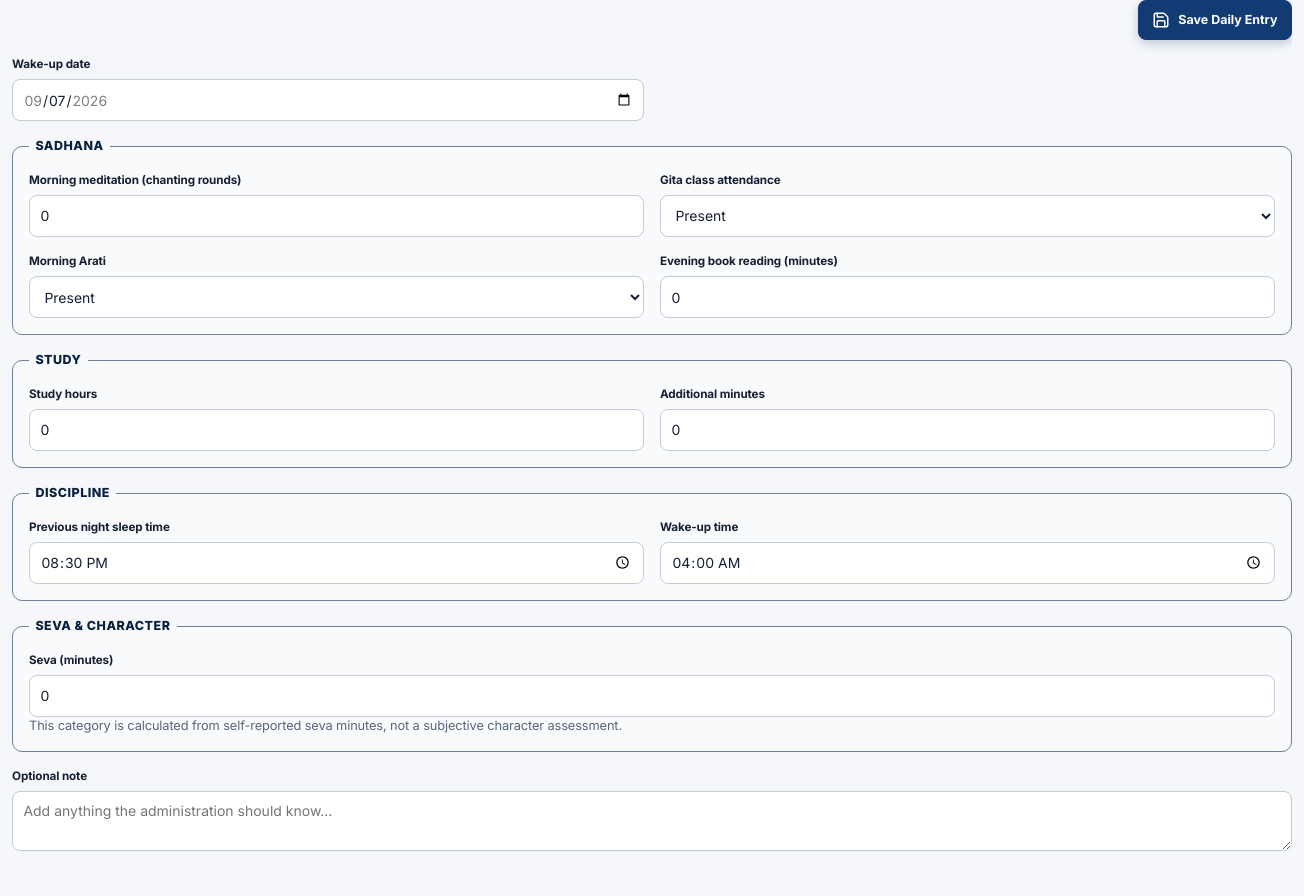
Test: DailyEntryForm › requires evidence beside the evidence field and in the top alert summary
Select "Absent" in the dropdown labelled "Morning Arati" at (336, 297), box [29, 276, 644, 318]
(page scrolled)
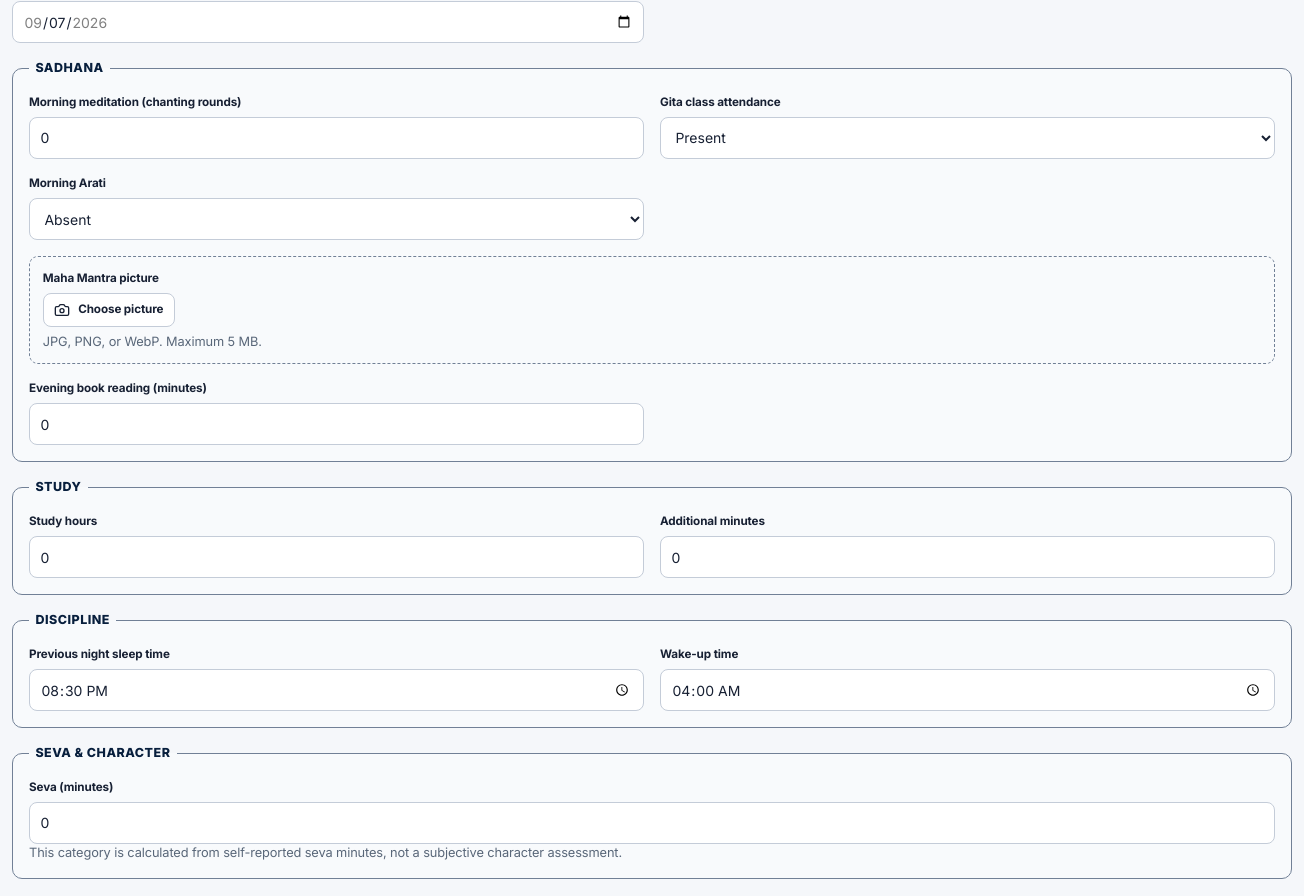
Submit the form "Save Daily Entry"
(page scrolled)
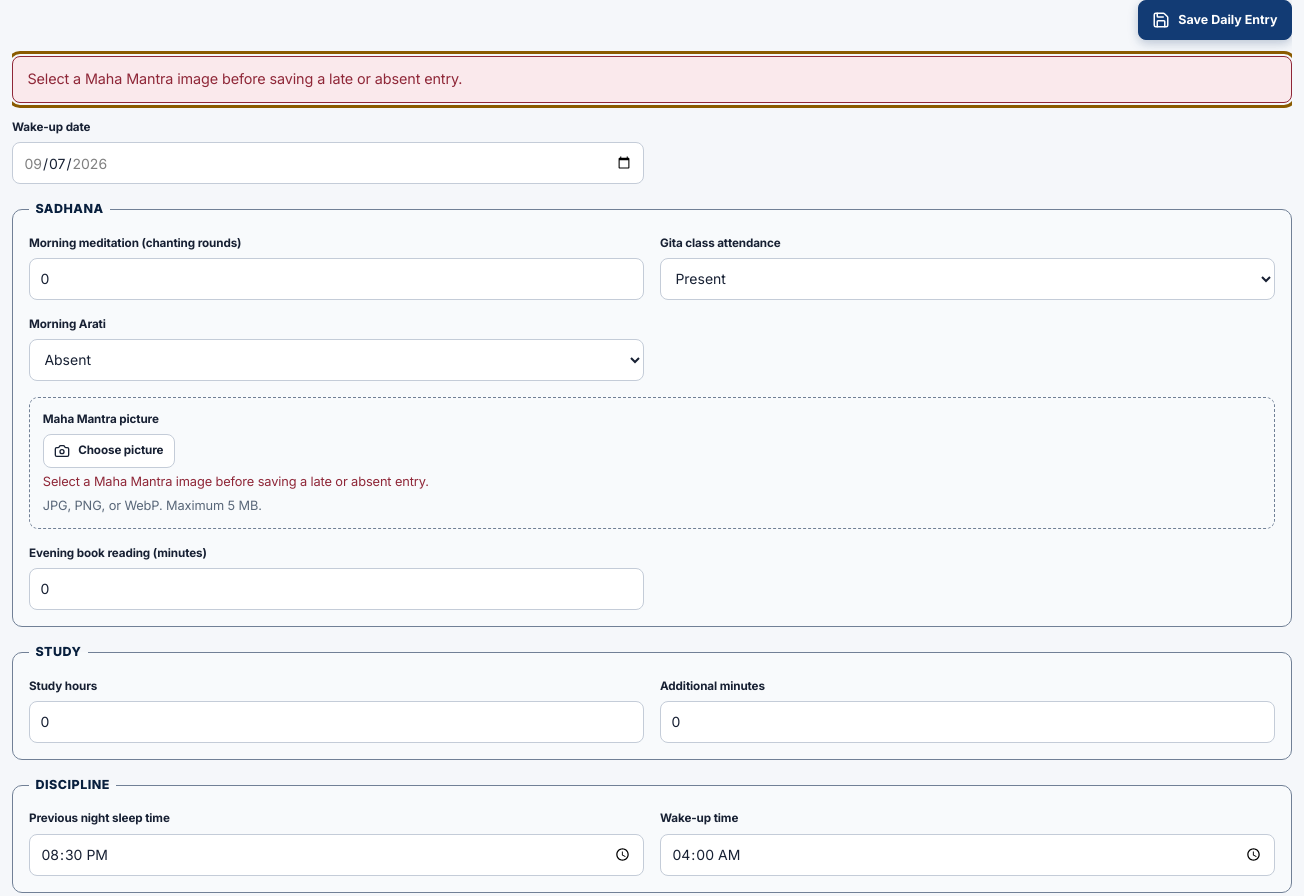
expect the text "Select a Maha Mantra image before saving a late or absent entry." is shown 2 times: met, box [12, 56, 1292, 103]; [43, 474, 429, 490]
